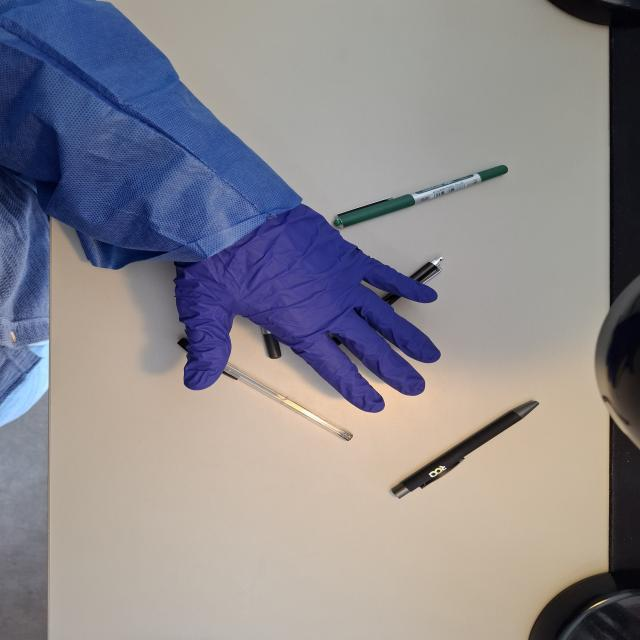glove_on: (169, 202, 446, 416)
